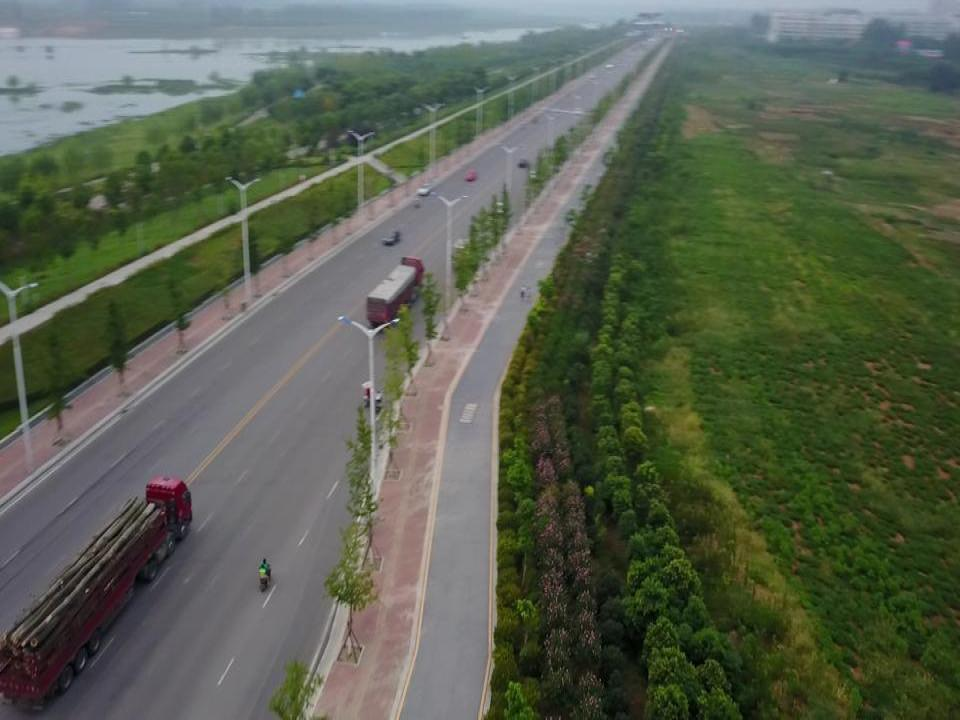car: (380, 228, 401, 245), (416, 181, 432, 196), (464, 168, 477, 183), (516, 156, 530, 169)
truck: (0, 473, 193, 715), (365, 255, 425, 333)
